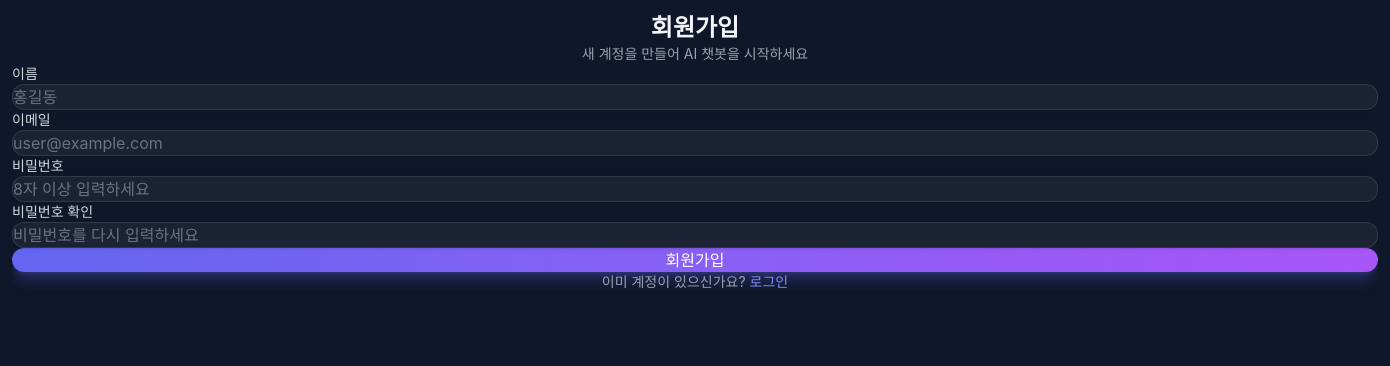
Test: RegisterForm › 빈 필드로 전송하면 유효성 검사 에러를 표시한다
The width and height of the screenshot is (1390, 366).
Click the button "회원가입".
click(695, 260)  # box [12,248,1378,272]
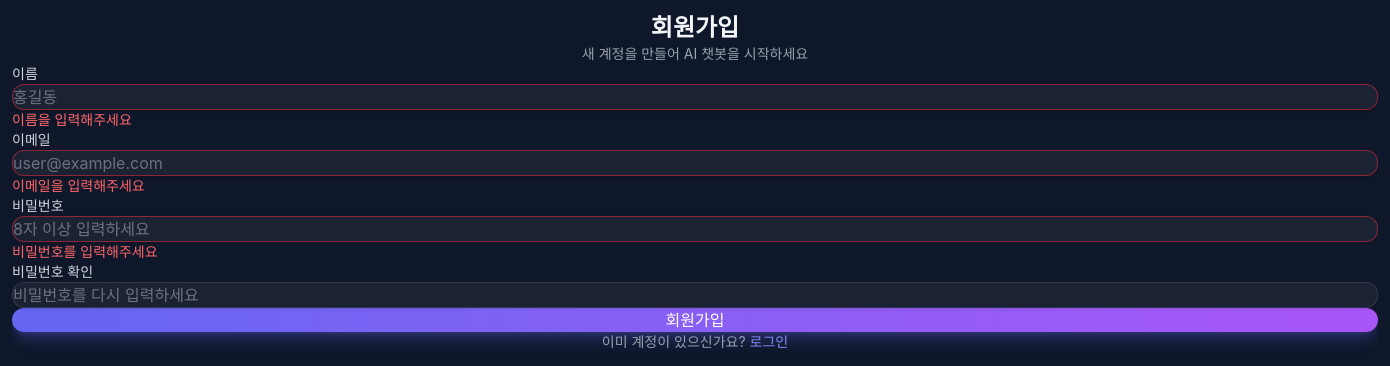
Now the text "이름을 입력해주세요" is shown, box [12,111,132,128]
Now the text "이메일을 입력해주세요" is shown, box [12,177,145,194]
Now the text "비밀번호를 입력해주세요" is shown, box [12,243,158,260]
